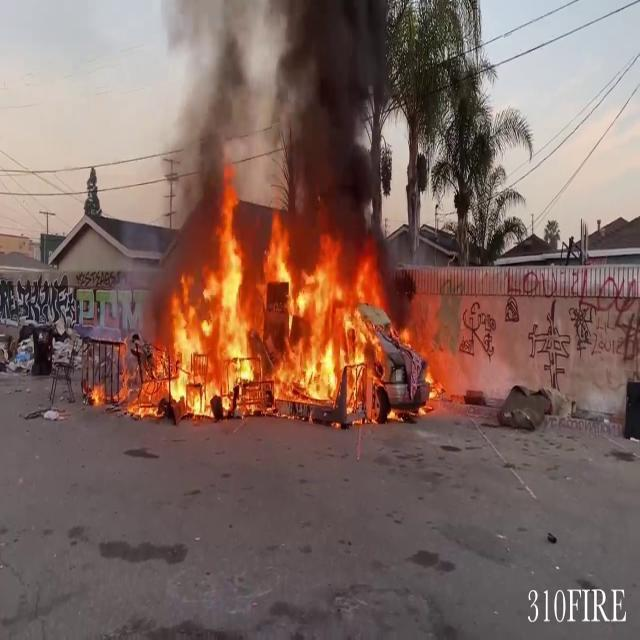Fire: (124, 198, 463, 423)
Smoke: (156, 0, 397, 234)
